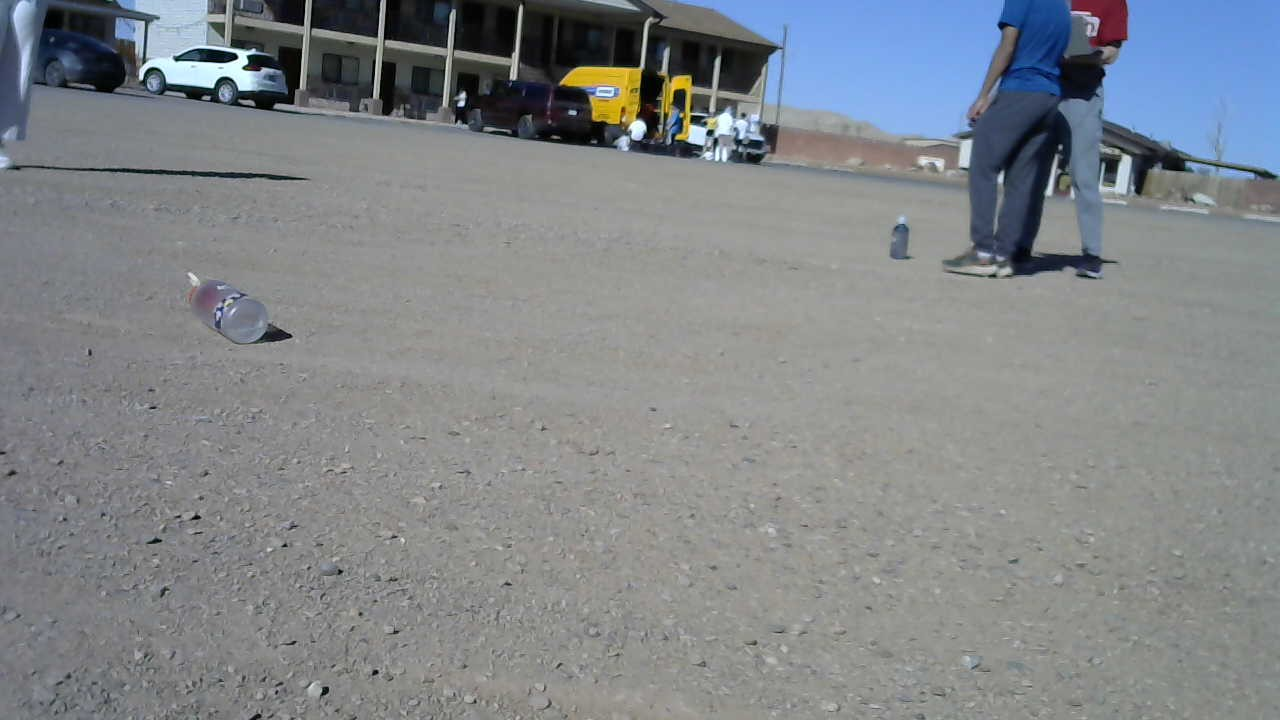bottle: (179, 265, 270, 345), (885, 212, 912, 259)
